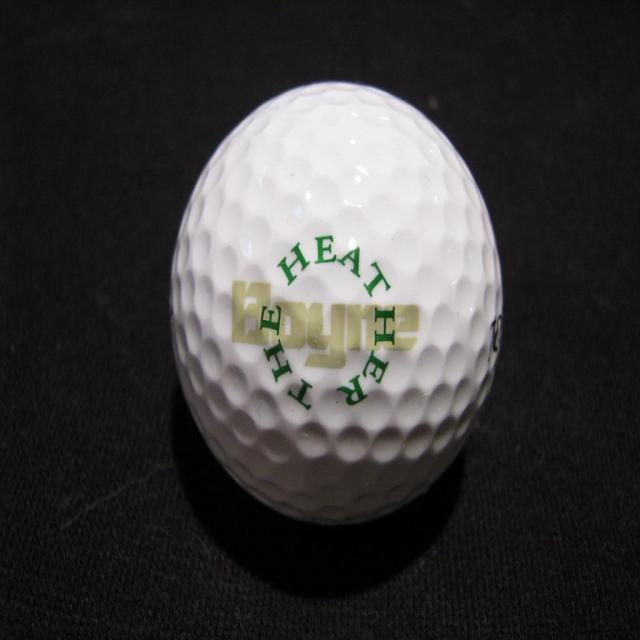GolfBall: (143, 78, 527, 520)
